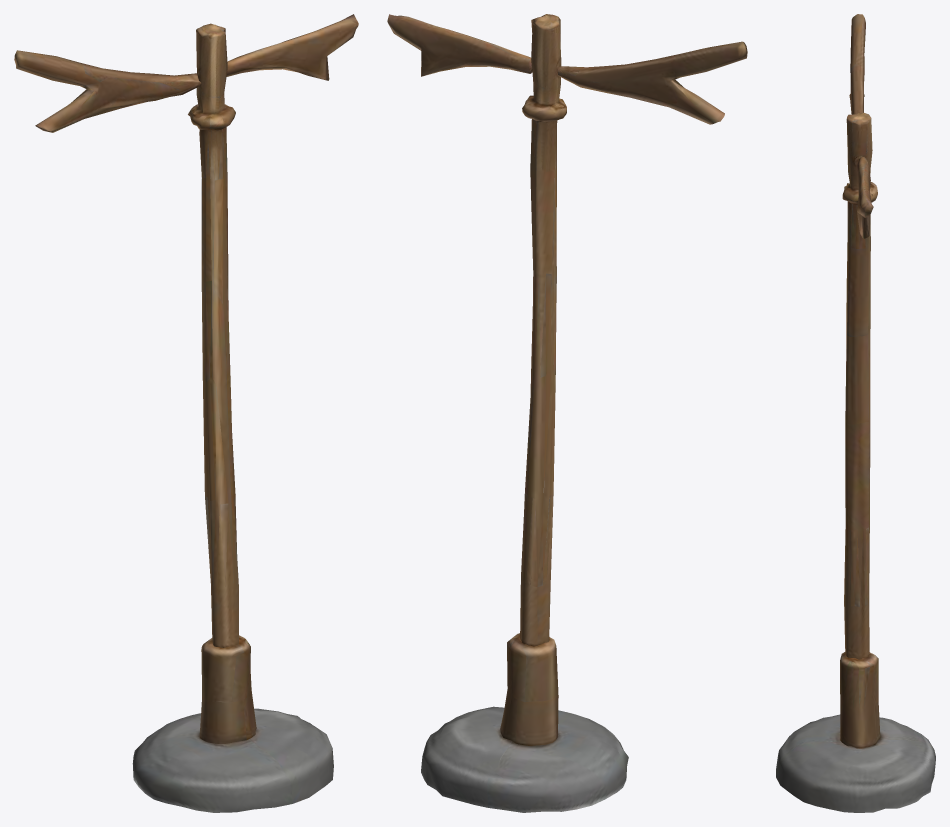
Rendered from el_cata_vento.glb.
3 views of the same model, side by side, from view 1: azimuth 30°, elevation 25°; view 2: azimuth 150°, elevation 25°; view 3: azimuth 270°, elevation 25° (orthographic). The views are drawn at different scales.
Visible parts, largest first — view 1: Mesh_0.006; view 2: Mesh_0.006; view 3: Mesh_0.006.
Boxes of the visible parts, x1=… form: Mesh_0.006: x1=14, y1=14, x2=358, y2=812; Mesh_0.006: x1=387, y1=14, x2=747, y2=812; Mesh_0.006: x1=776, y1=14, x2=935, y2=812.
Size of the model in its own units: 0.2063 by 0.4428 by 0.0957.
Materials: 1 (1 with a texture image).
